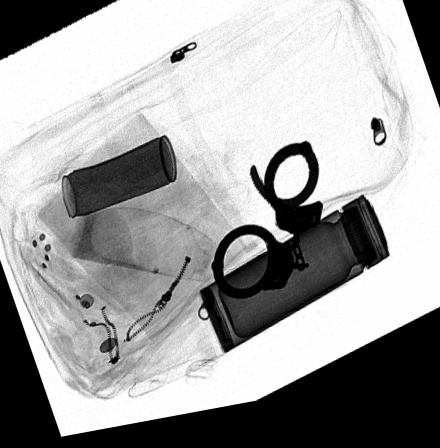HandCuffs: (210, 153, 324, 308)
